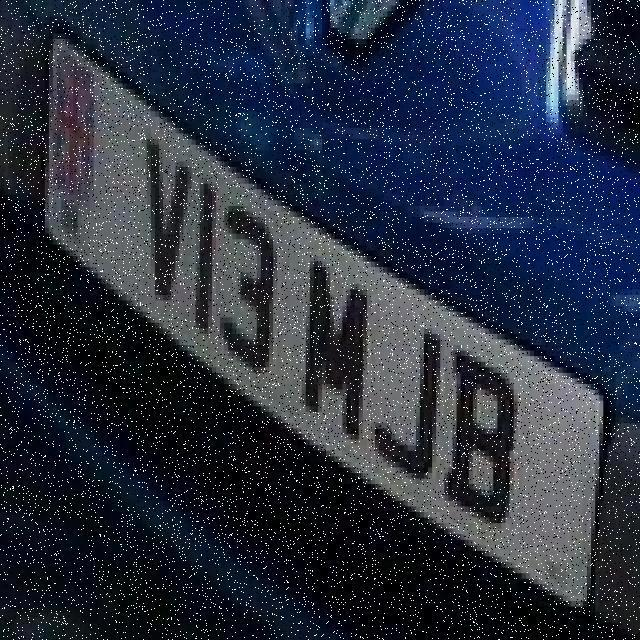LicensePlate: (45, 38, 615, 610)
